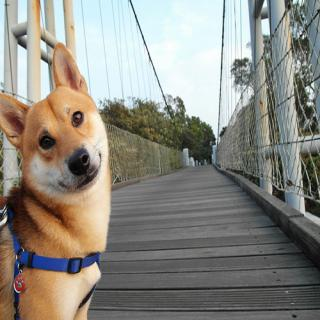dog: (1, 46, 113, 237)
